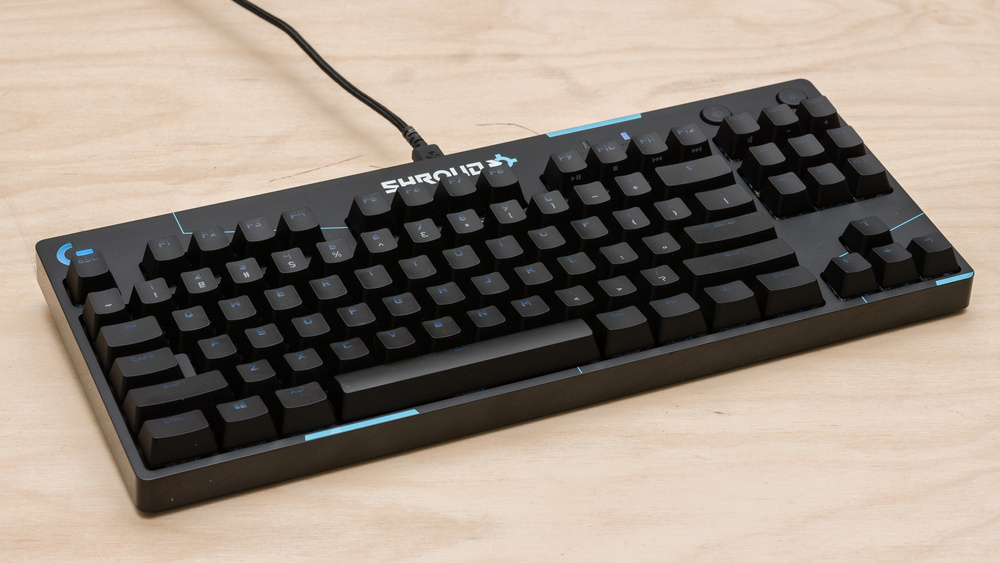keyboard: (53, 89, 937, 458)
